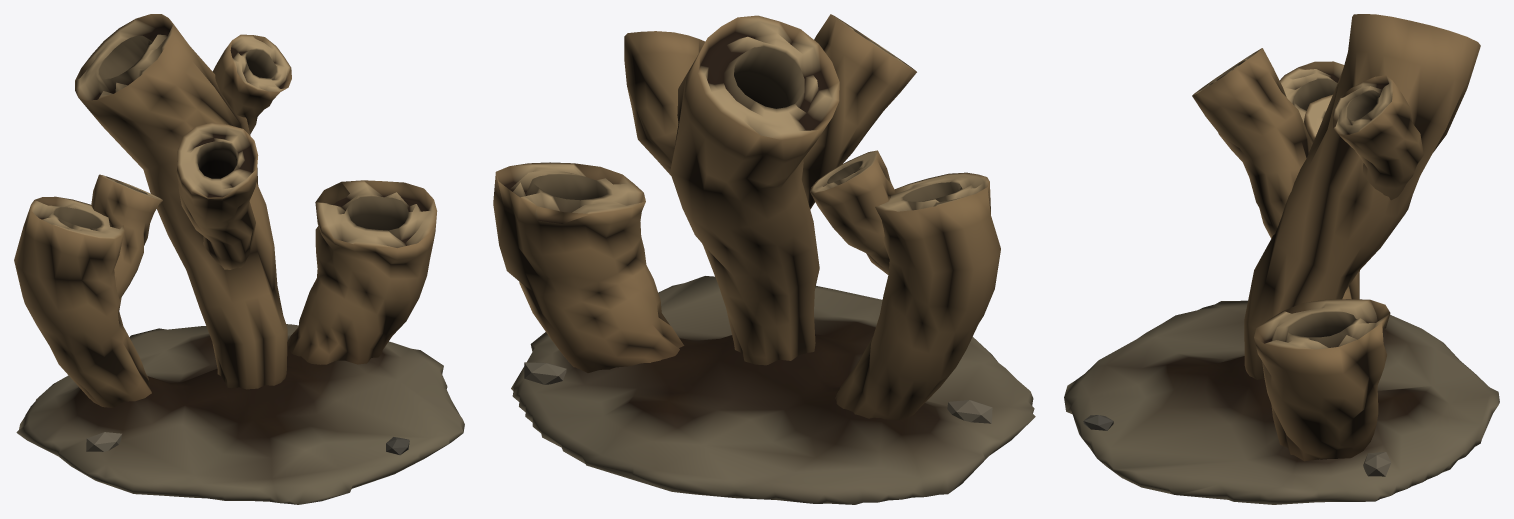
The model's file is Protopharetra.fbx.
The picture shows the model from 3 angles, left to right: view 1: azimuth 30°, elevation 25°; view 2: azimuth 150°, elevation 25°; view 3: azimuth 270°, elevation 25°; orthographic projection. The views are drawn at different scales.
Parts seen in each view (by area): view 1: Protopharetra; view 2: Protopharetra; view 3: Protopharetra.
Boxes of the visible parts, <box> form: Protopharetra: <box>14,14,464,504</box>; Protopharetra: <box>493,14,1035,504</box>; Protopharetra: <box>1064,14,1499,504</box>.
Size of the model in its own units: 1.13 by 0.9892 by 0.9869.
